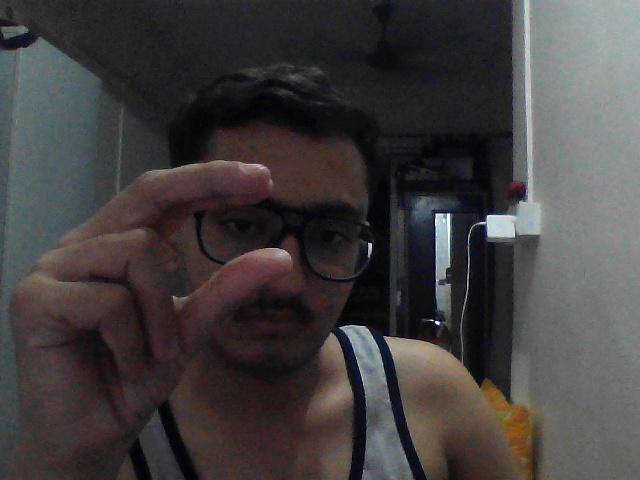No: (6, 148, 299, 443)
